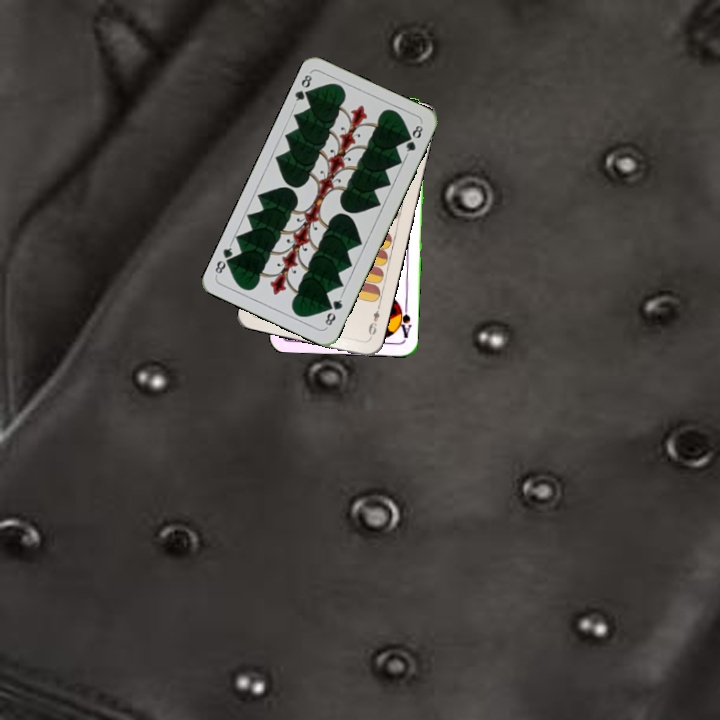E9: (364, 301, 383, 341)
G8: (290, 69, 316, 107), (321, 292, 345, 330)
SA: (394, 300, 414, 341)
